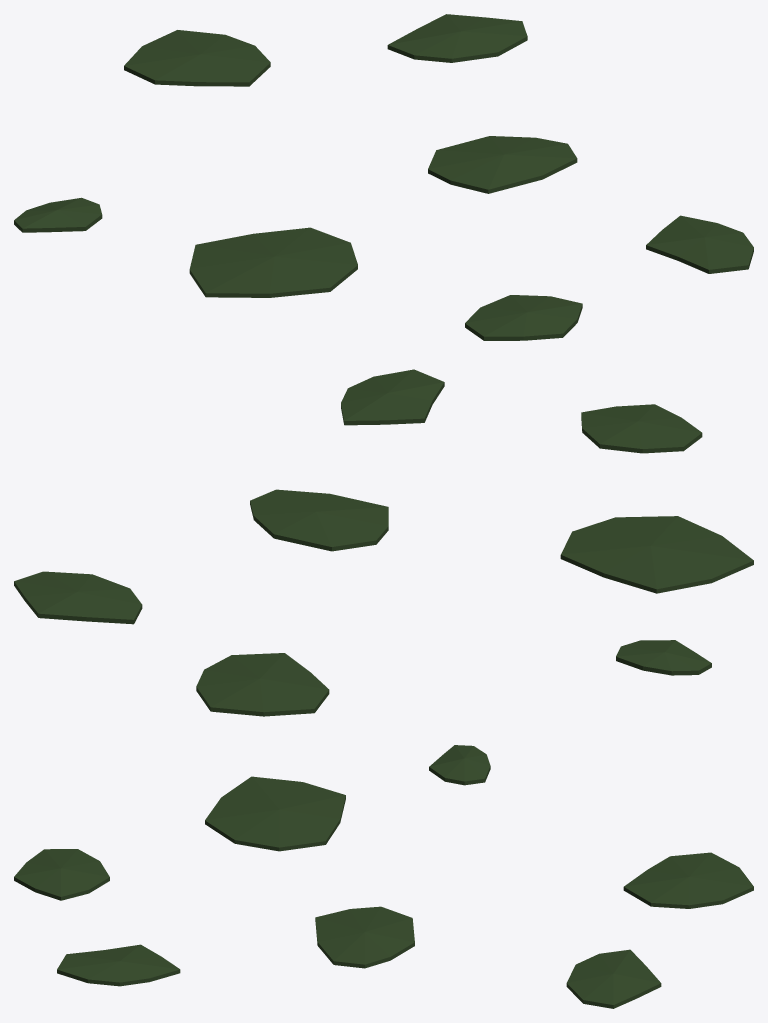
The model's file is plant_009b_floating_muck.glb.
3 renders of one model, top to bottom at view 1: azimuth 30°, elevation 25°; view 2: azimuth 150°, elevation 25°; view 3: azimuth 270°, elevation 25°, orthographic. The views are drawn at different scales.
Visible parts, largest first — view 1: plant_009b_floating_muck__islands; view 2: plant_009b_floating_muck__islands; view 3: plant_009b_floating_muck__islands.
Boxes of the visible parts, <box> form: plant_009b_floating_muck__islands: <box>14,14,753,340</box>; plant_009b_floating_muck__islands: <box>14,369,753,716</box>; plant_009b_floating_muck__islands: <box>14,745,753,1008</box>.
Bounding box in the file's own units: 1.17 × 0.017 × 1.4.
